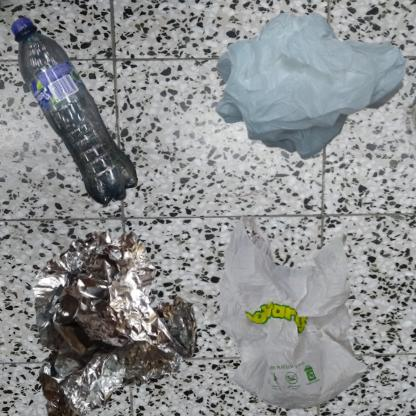aluminio: (10, 213, 223, 416)
bolsa: (213, 213, 377, 416), (213, 10, 409, 162)
botella: (10, 10, 142, 216)
